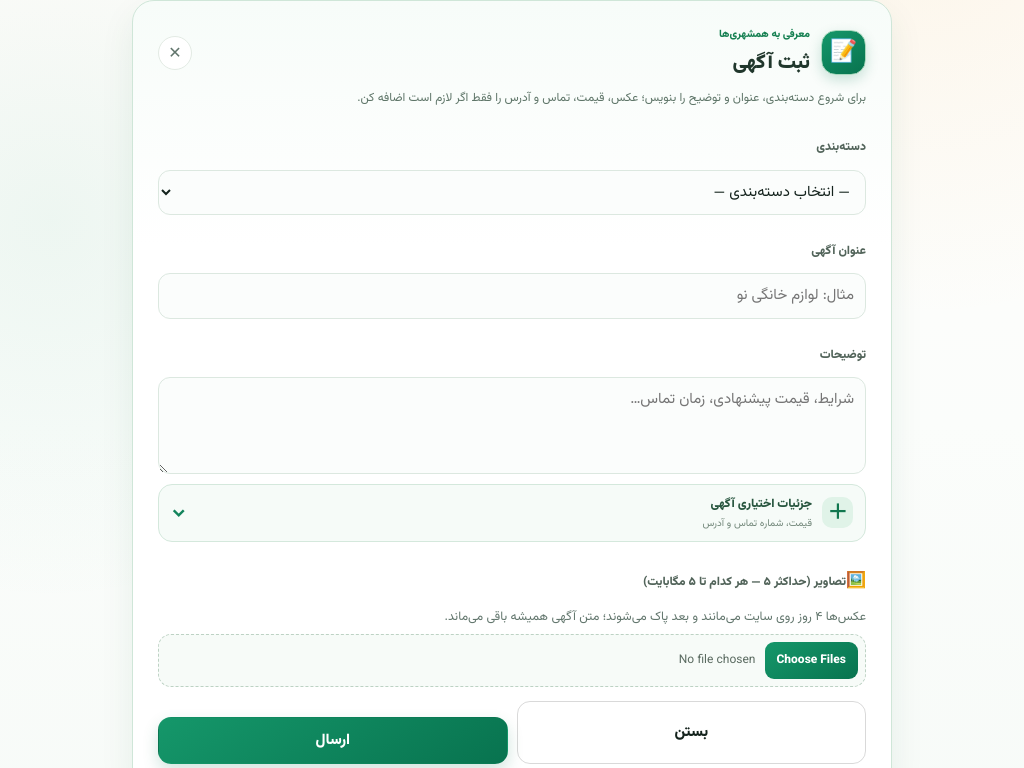
Test: AdForm › keeps the initial form short and reveals optional details on demand
Expected: the field labelled "عنوان آگهی" is shown, [158,273,866,319]
Expected: the text box labelled "توضیحات" is shown, [158,377,866,474]
Click the heading with test id "ad-optional-summary".
click(778, 513)  # box [702,495,853,531]
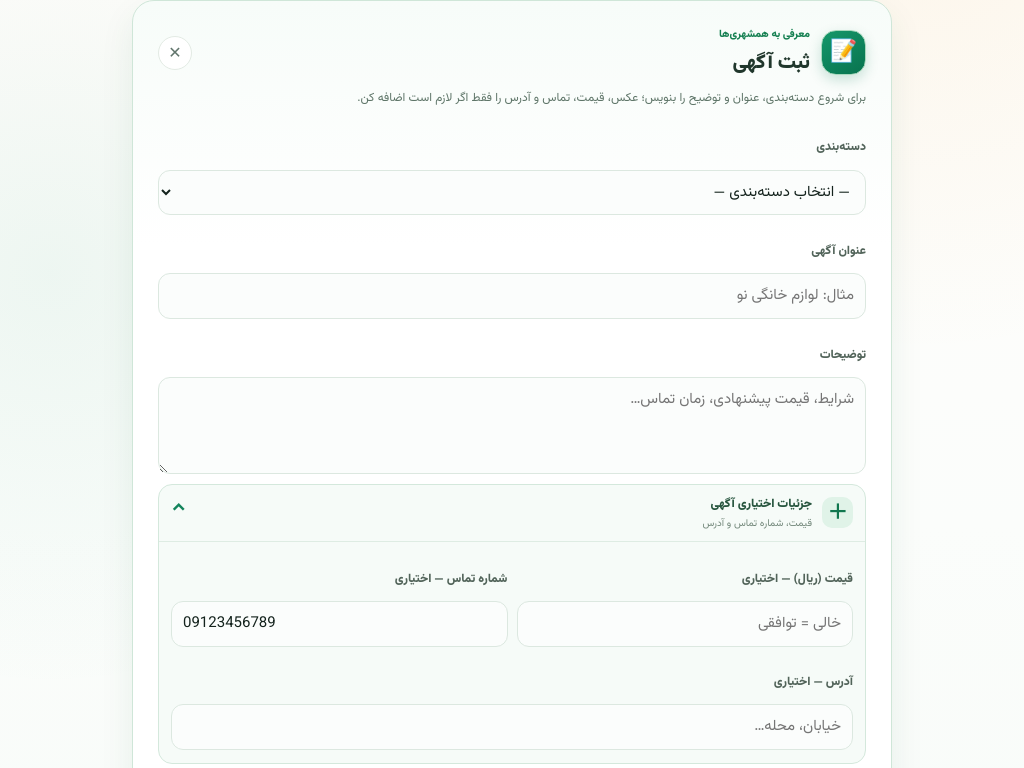
Expected: the field labelled "قیمت (ریال) — اختیاری" is shown, [516,601,853,647]
Expected: the field labelled "شماره تماس — اختیاری" is shown, [171,601,508,647]
Expected: the field labelled "آدرس — اختیاری" is shown, [171,704,853,750]
